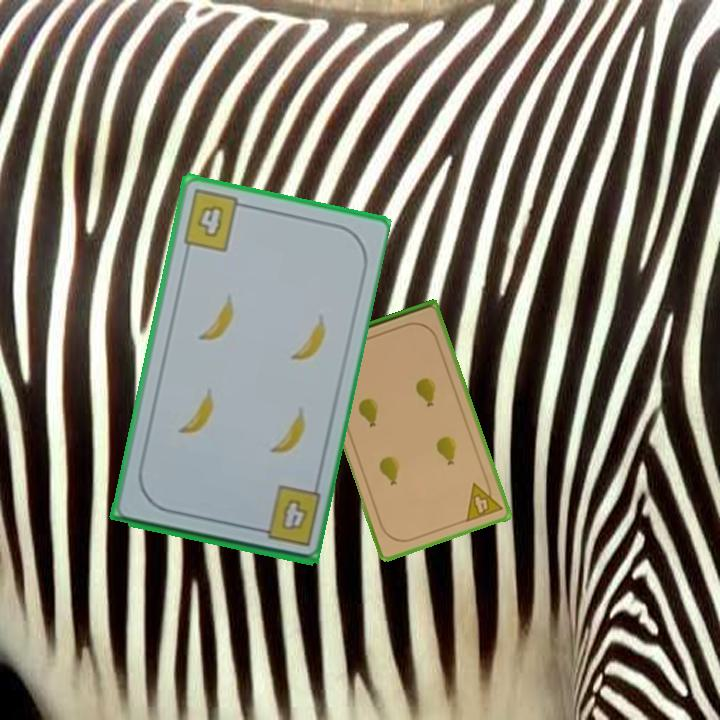4b: (249, 482, 323, 549), (179, 186, 250, 255)
4p: (462, 475, 505, 525)
